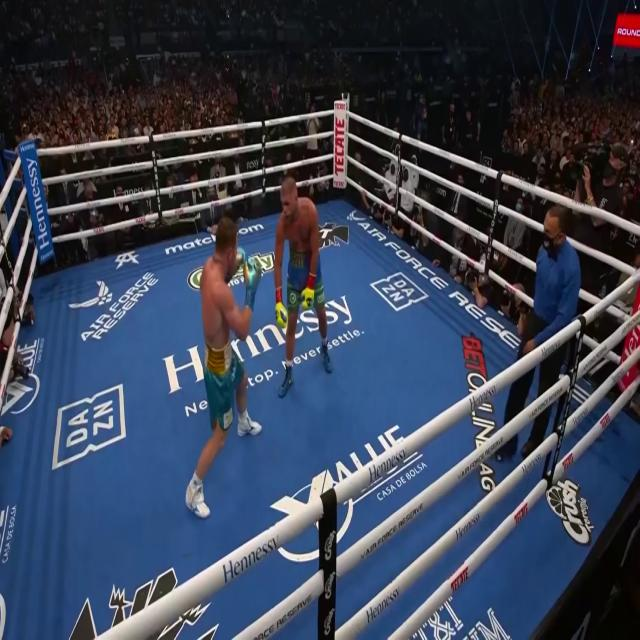boxer_1: (281, 177, 321, 256)
boxer_2: (200, 219, 237, 349)
gloves_1: (301, 271, 316, 309), (275, 287, 288, 327)
gloves_2: (226, 246, 261, 309)
